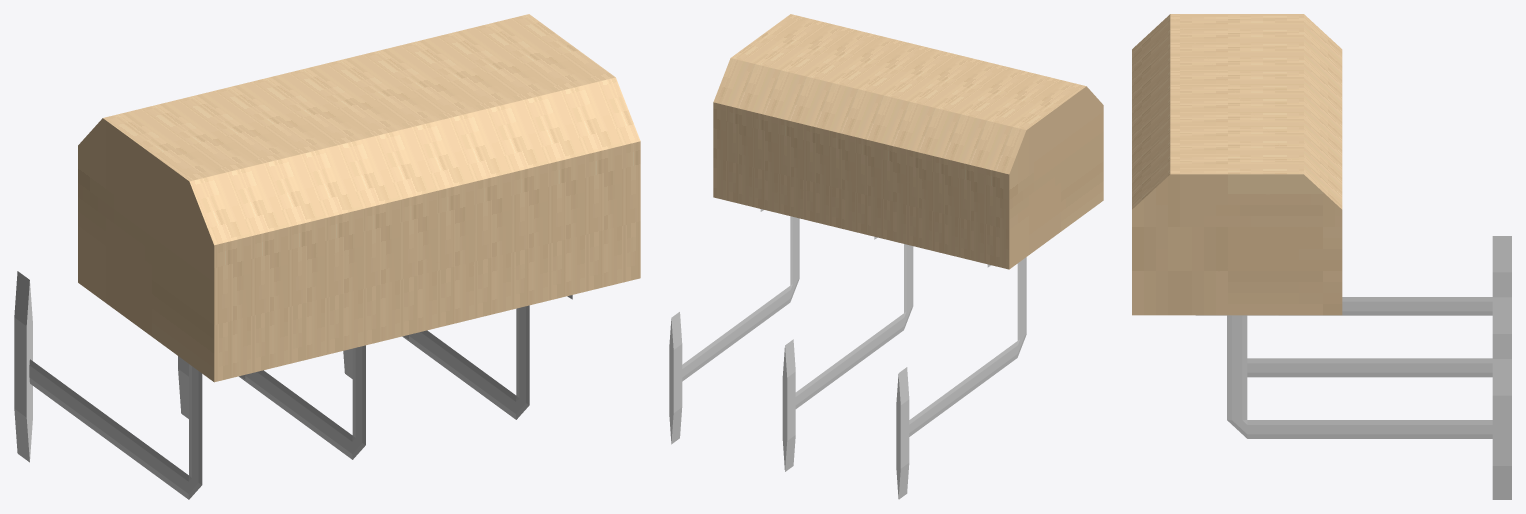
File: sh-contrib-wall-handrail.glb
3 views of the same model, side by side, from view 1: azimuth 30°, elevation 25°; view 2: azimuth 150°, elevation 25°; view 3: azimuth 270°, elevation 25° (orthographic). The views are drawn at different scales.
Visible parts, largest first — view 1: 1_1, 2_2; view 2: 1_1, 2_2; view 3: 1_1, 2_2.
Part boxes in pixels (x1=…): 1_1: x1=78, y1=14, x2=640, y2=382; 2_2: x1=14, y1=271, x2=572, y2=499; 1_1: x1=713, y1=14, x2=1103, y2=269; 2_2: x1=669, y1=209, x2=1026, y2=499; 1_1: x1=1132, y1=14, x2=1342, y2=315; 2_2: x1=1196, y1=236, x2=1511, y2=499.
Bounding box in the file's own units: 1 × 1 × 1.
Materials: 2 (1 with a texture image).
